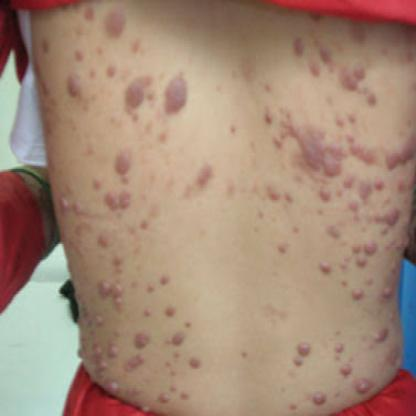Hansen-s Disease-Leprosy: (280, 107, 346, 175), (95, 245, 132, 317), (347, 135, 416, 169), (340, 59, 380, 109), (120, 70, 156, 125), (164, 71, 191, 125), (103, 5, 130, 43), (294, 333, 314, 375), (114, 148, 132, 181), (66, 72, 85, 102)
